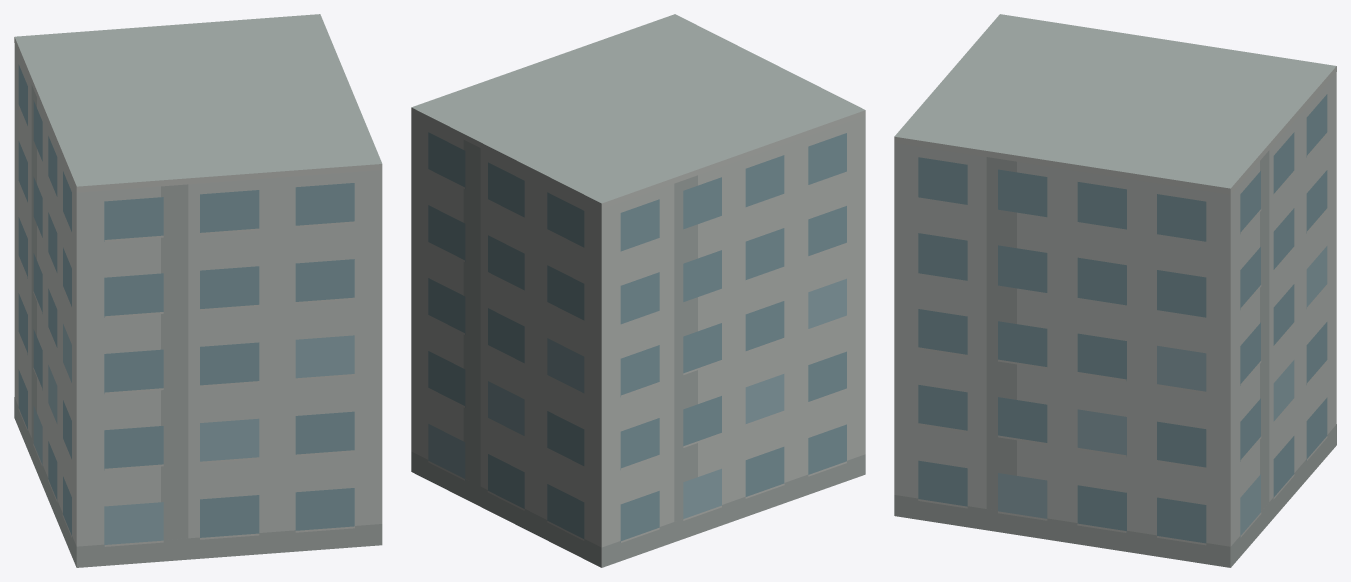
Rendered from residential-434f3c92-83bb-48e0-bed1-fed51e763b94.glb.
The picture shows the model from 3 angles, left to right: view 1: azimuth 30°, elevation 25°; view 2: azimuth 150°, elevation 25°; view 3: azimuth 270°, elevation 25°; orthographic projection. The views are drawn at different scales.
Visible parts, largest first — view 1: residential-434f3c92-83bb-48e0-bed1-fed51e763b94.tmp; view 2: residential-434f3c92-83bb-48e0-bed1-fed51e763b94.tmp; view 3: residential-434f3c92-83bb-48e0-bed1-fed51e763b94.tmp.
Part boxes in pixels (box(x1,y1,x2,y2)): residential-434f3c92-83bb-48e0-bed1-fed51e763b94.tmp: box(14, 14, 382, 567); residential-434f3c92-83bb-48e0-bed1-fed51e763b94.tmp: box(411, 14, 865, 567); residential-434f3c92-83bb-48e0-bed1-fed51e763b94.tmp: box(894, 14, 1336, 567).
Size of the model in its own units: 15.06 by 15.25 by 16.13.
